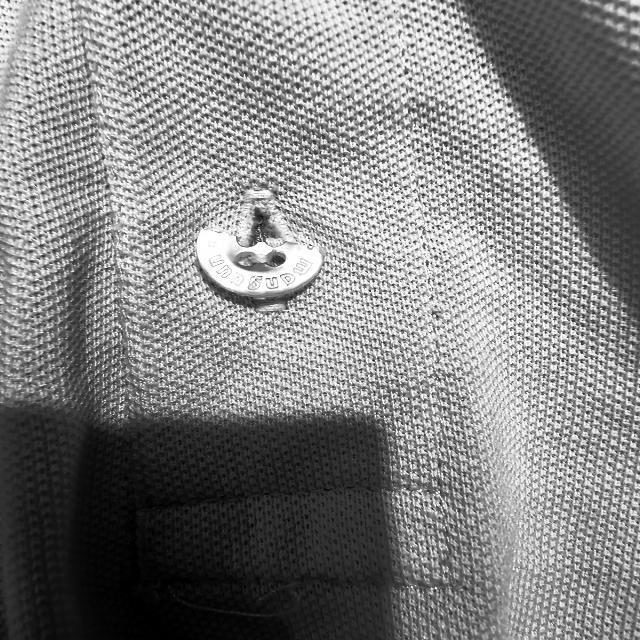Broken_button: (182, 214, 334, 308)
